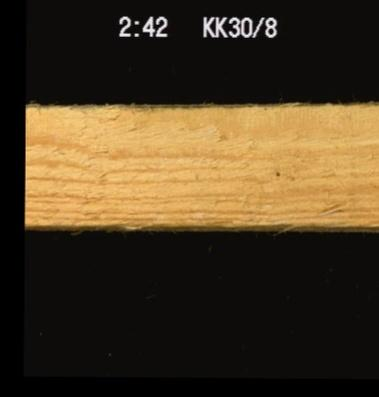small_knot: (268, 164, 284, 179)
